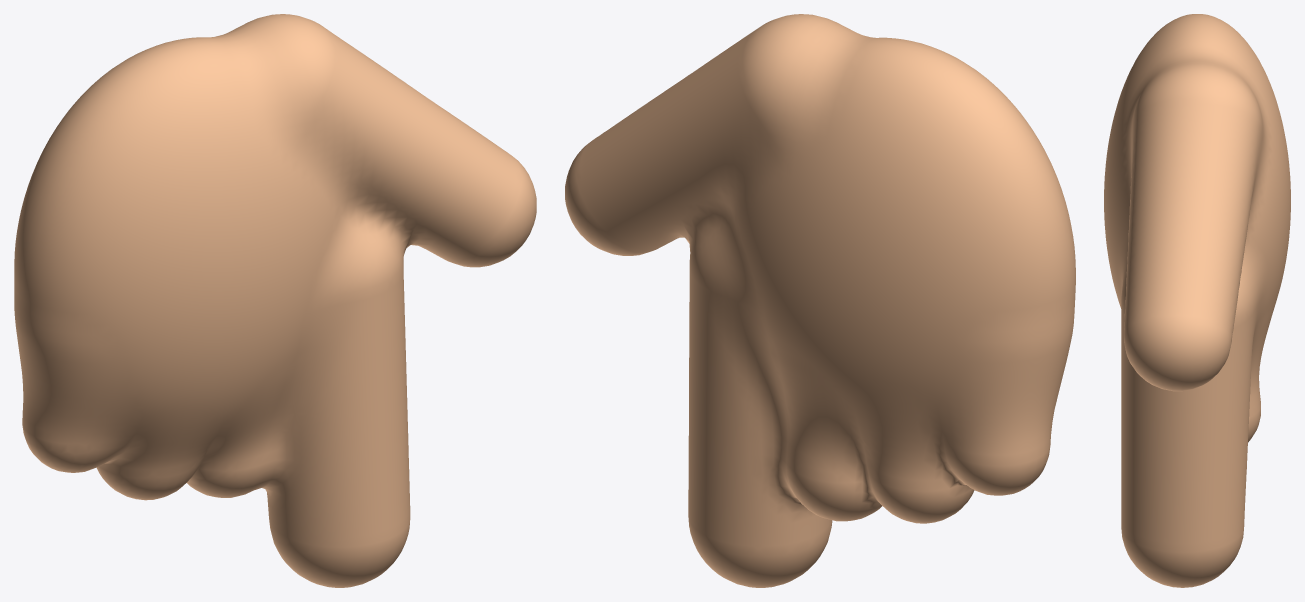
File: guide_hand.glb
3 renders of one model, left to right at view 1: azimuth 30°, elevation 25°; view 2: azimuth 150°, elevation 25°; view 3: azimuth 270°, elevation 25°, orthographic. The views are drawn at different scales.
Parts seen in each view (by area): view 1: candy_hand; view 2: candy_hand; view 3: candy_hand.
Boxes of the visible parts, x1=… form: candy_hand: x1=14, y1=14, x2=536, y2=587; candy_hand: x1=565, y1=14, x2=1075, y2=587; candy_hand: x1=1104, y1=14, x2=1290, y2=587.
Size of the model in its own units: 1.01 by 1.1 by 0.3797.
